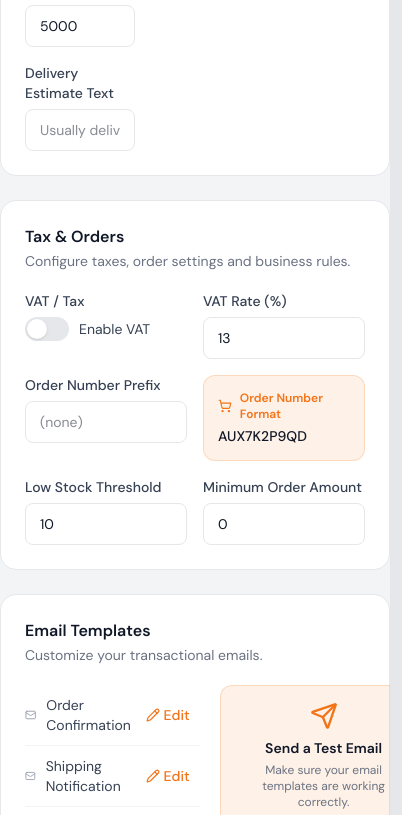
Test: Store Operations tab › previews the order number format from the prefix
This screenshot has width=402, height=815.
(page scrolled)
Expected: the text "AUX7K2P9QD" is shown, [218,427,307,445]
Type "SHOP-" into the field named "Order number prefix" at (106, 422), box [25,401,187,443]
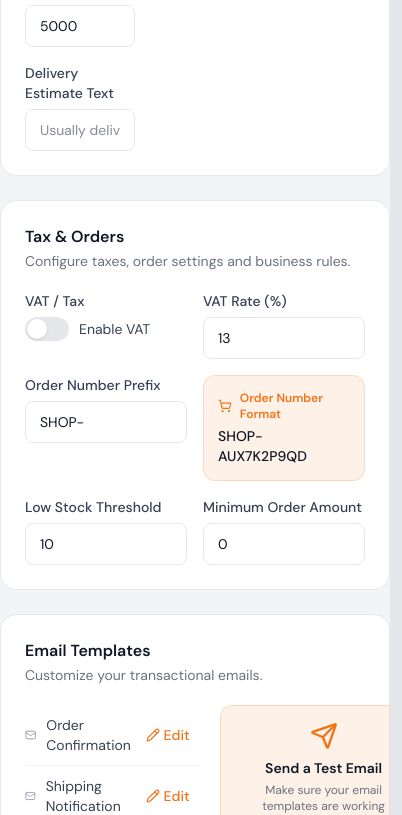
Result: the text "SHOP-AUX7K2P9QD" is shown at [218,427,307,465]
